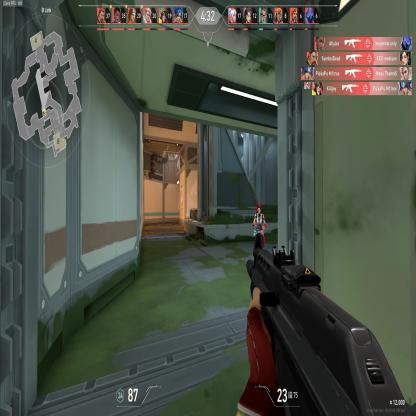enemy: (252, 201, 266, 235)
